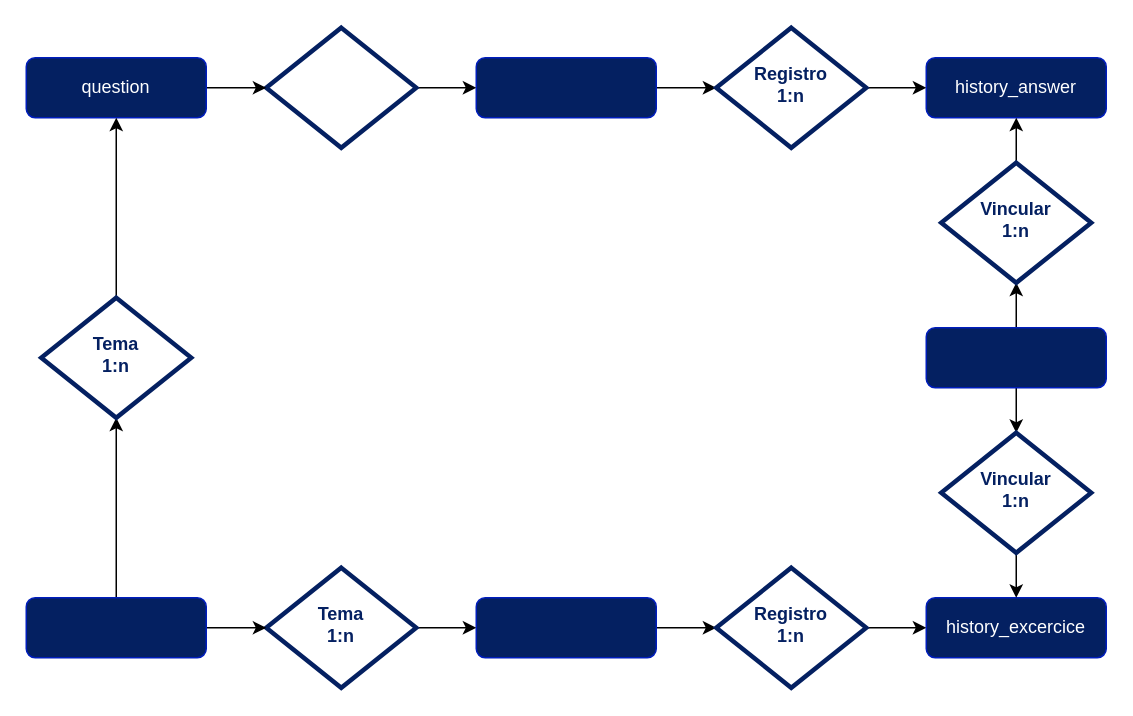
Some shapes in this 1133 by 716 pixel diagram are drawn without their labels. Here are the shapes that lost their labels. From the top down, the box of each, then its label:
(263, 25, 418, 149): Resposta 1:1
(475, 56, 656, 118): answer
(925, 326, 1106, 388): user
(25, 596, 206, 658): subject
(475, 596, 656, 658): excercice
